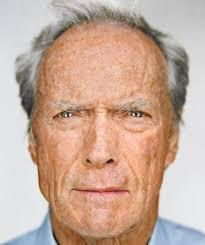normalEye: (49, 92, 154, 128)
normalMouth: (70, 180, 132, 202)
